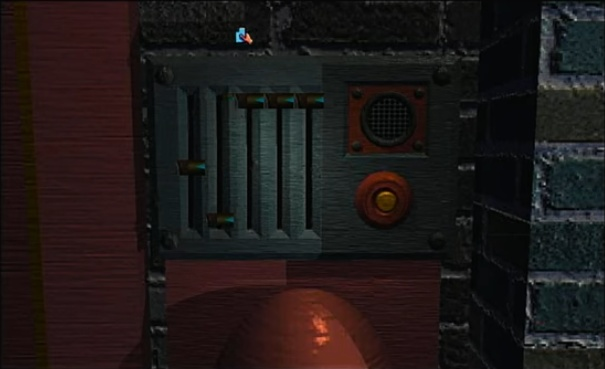Keep: (231, 23, 258, 46)
